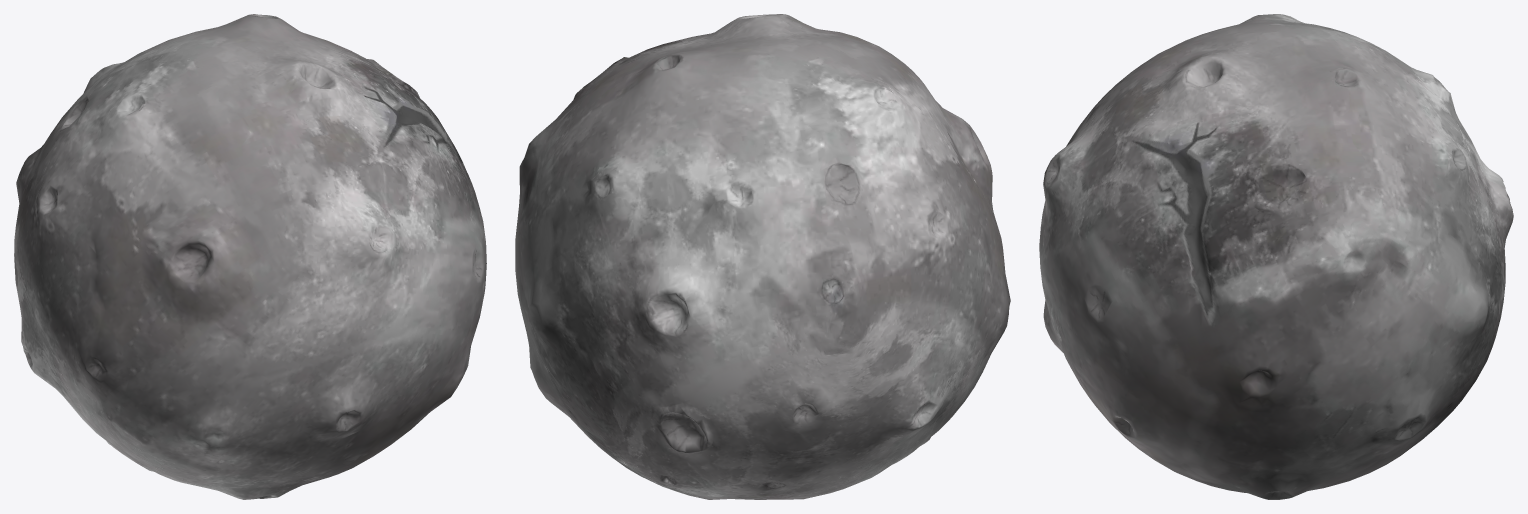
Rendered from first_layer.obj.
3 views of the same model, side by side, from view 1: azimuth 30°, elevation 25°; view 2: azimuth 150°, elevation 25°; view 3: azimuth 270°, elevation 25° (orthographic). The views are drawn at different scales.
Parts seen in each view (by area): view 1: moon_Cube.002; view 2: moon_Cube.002; view 3: moon_Cube.002.
Boxes of the visible parts, x1=… form: moon_Cube.002: x1=14, y1=14, x2=486, y2=499; moon_Cube.002: x1=515, y1=14, x2=1010, y2=499; moon_Cube.002: x1=1039, y1=14, x2=1513, y2=499.
Size of the model in its own units: 1.74 by 1.7 by 1.73.
1 material, 1 textured.
